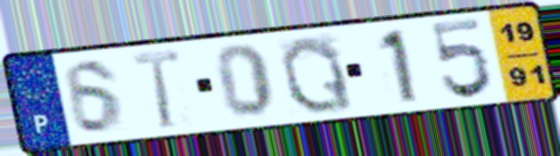0: (213, 41, 278, 122)
1: (376, 27, 421, 106)
5: (429, 16, 496, 102)
6: (61, 59, 128, 136)
Q: (277, 33, 357, 115)
T: (129, 47, 184, 132)
